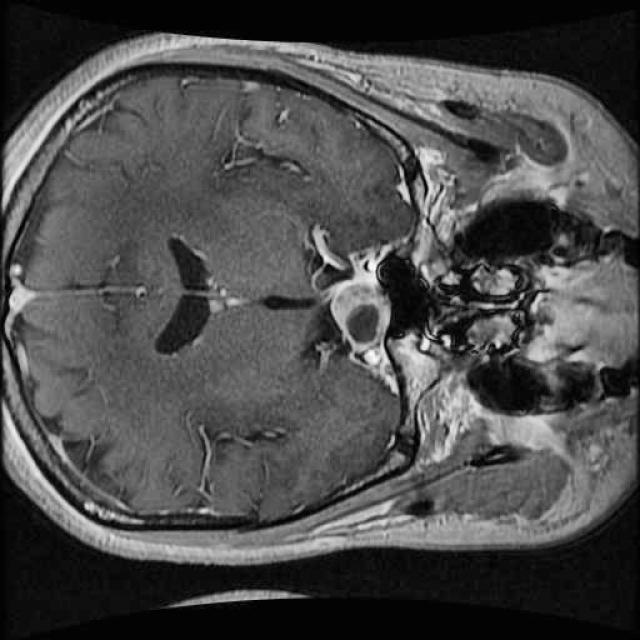Tumor: (322, 265, 401, 358)
